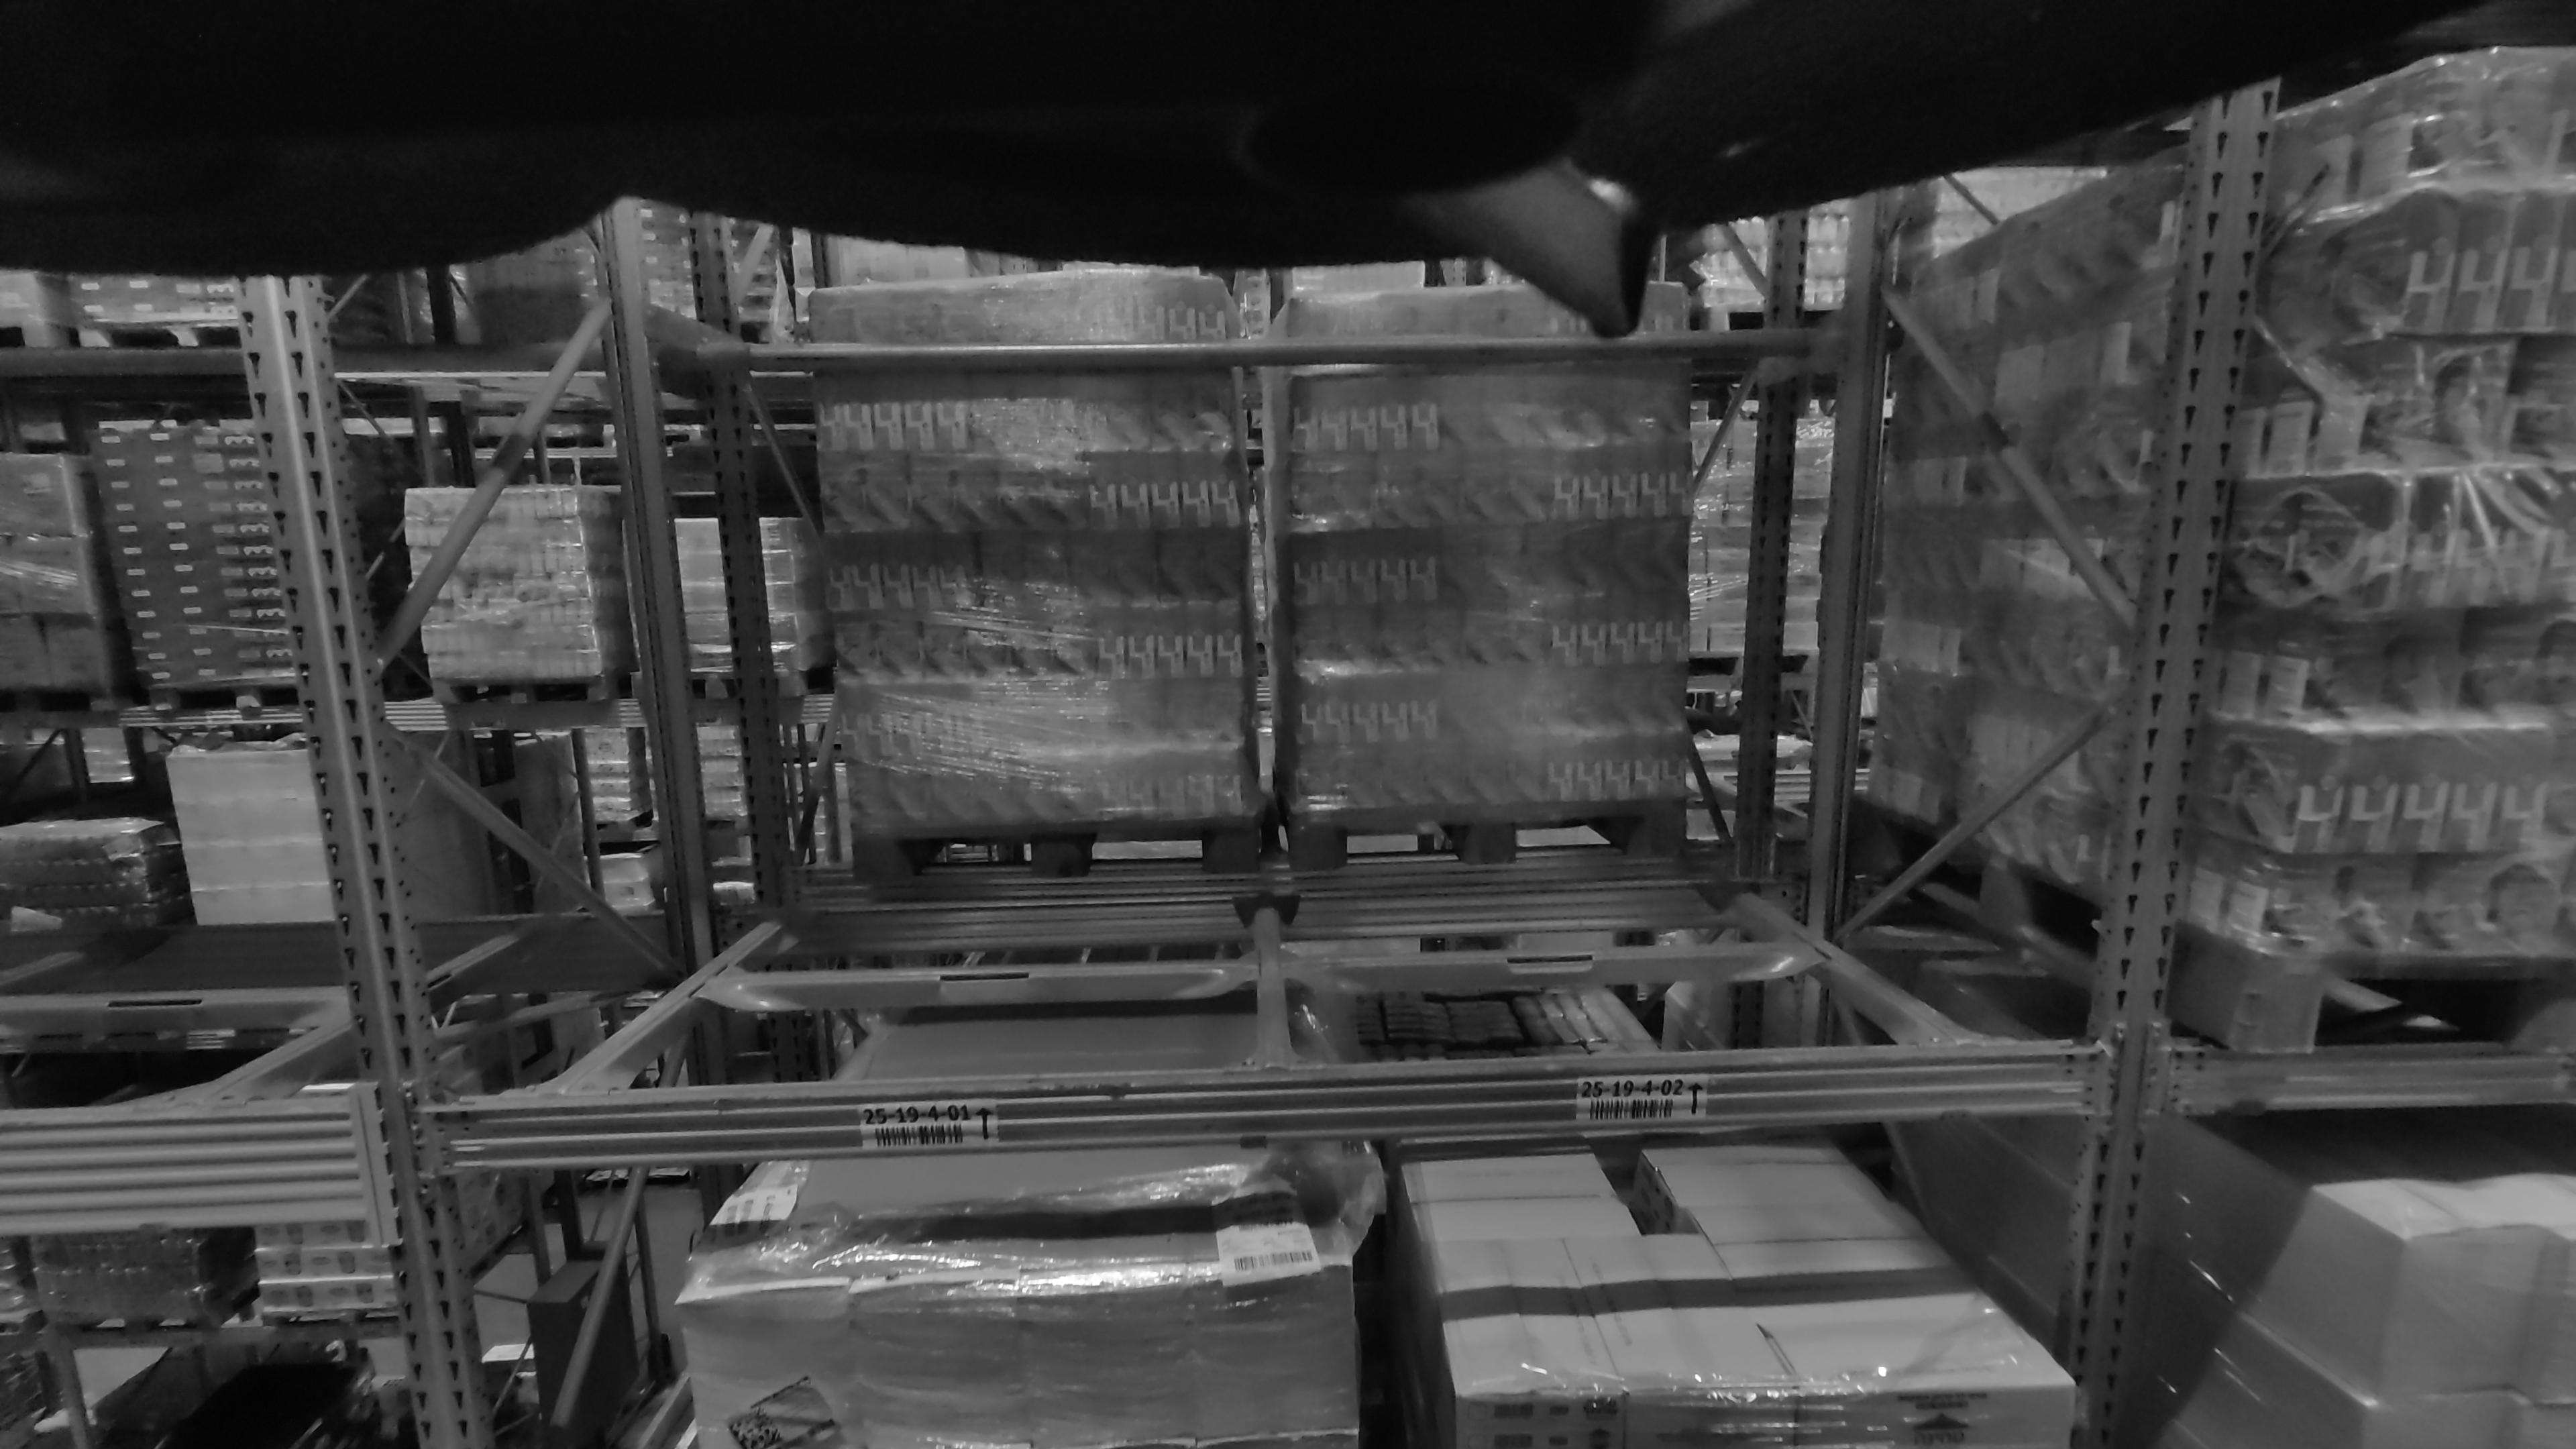empty-shelf: (1328, 221, 1952, 1051), (682, 250, 1254, 1065), (0, 217, 331, 1102)
